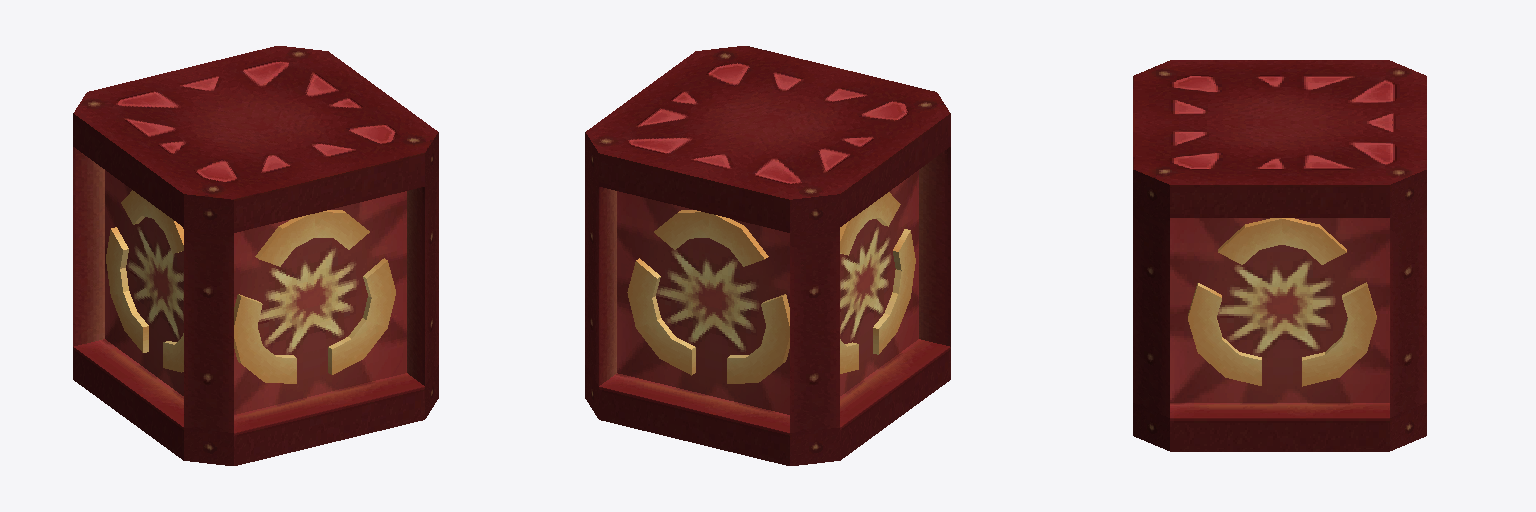
3 views of the same model, side by side, from view 1: azimuth 30°, elevation 25°; view 2: azimuth 150°, elevation 25°; view 3: azimuth 270°, elevation 25° (orthographic).
Visible parts, largest first — view 1: default; view 2: default; view 3: default.
Boxes of the visible parts, box(x1,y1,x2,y2) form: default: box(73, 46, 438, 465); default: box(585, 46, 950, 465); default: box(1133, 60, 1426, 451).
Size of the model in its own units: 24 by 24 by 24.
Materials: 1 (1 with a texture image).